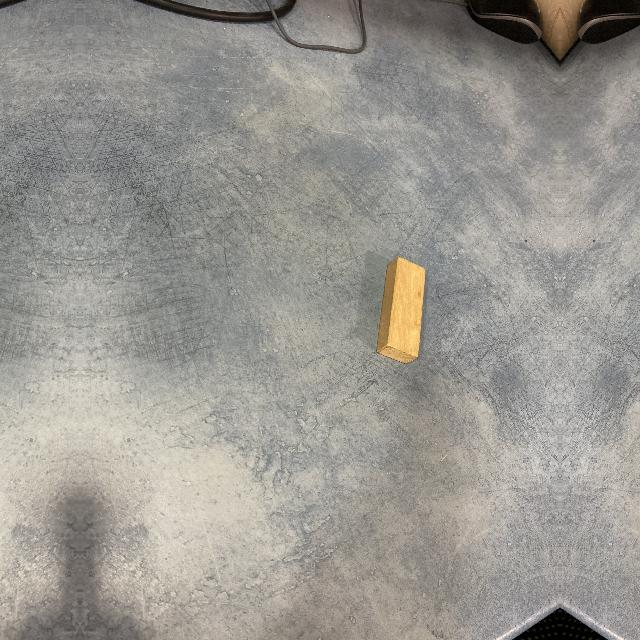jenga: (376, 258, 427, 366)
